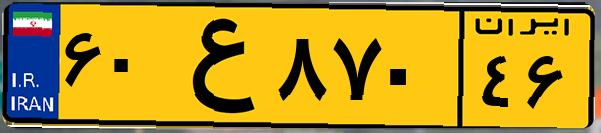0: (385, 28, 445, 110), (110, 28, 158, 98)
4: (475, 38, 525, 113)
6: (57, 26, 110, 100), (525, 38, 570, 115)
7: (330, 28, 385, 110)
8: (270, 28, 330, 110)
ع: (158, 12, 270, 120)
